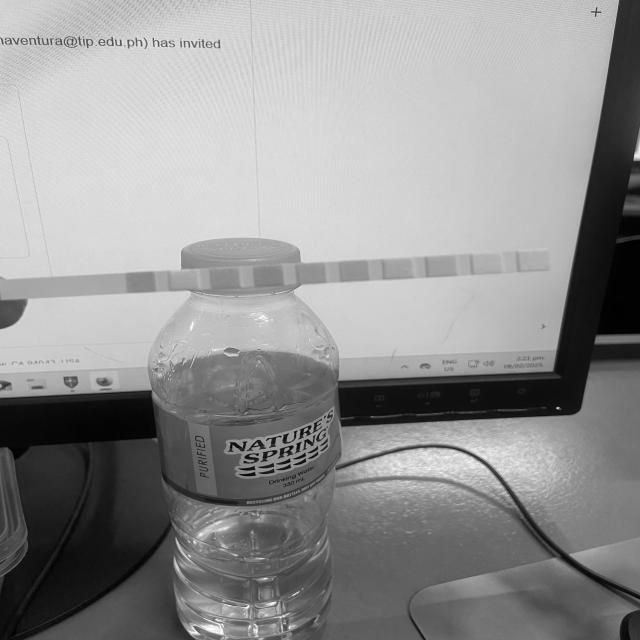Bilirubin: (171, 271, 199, 289)
Blood: (298, 264, 326, 282)
Glucose: (127, 274, 156, 292)
Ketone: (211, 269, 239, 288)
Leukocytes: (518, 251, 548, 270)
Nitrite: (472, 254, 502, 273)
Protein: (384, 259, 412, 277)
SpGravity: (255, 266, 284, 285)
Urobilinogen: (428, 256, 456, 274)
background: (0, 0, 640, 640)
pH: (341, 262, 368, 280)
strip: (2, 250, 550, 301)
